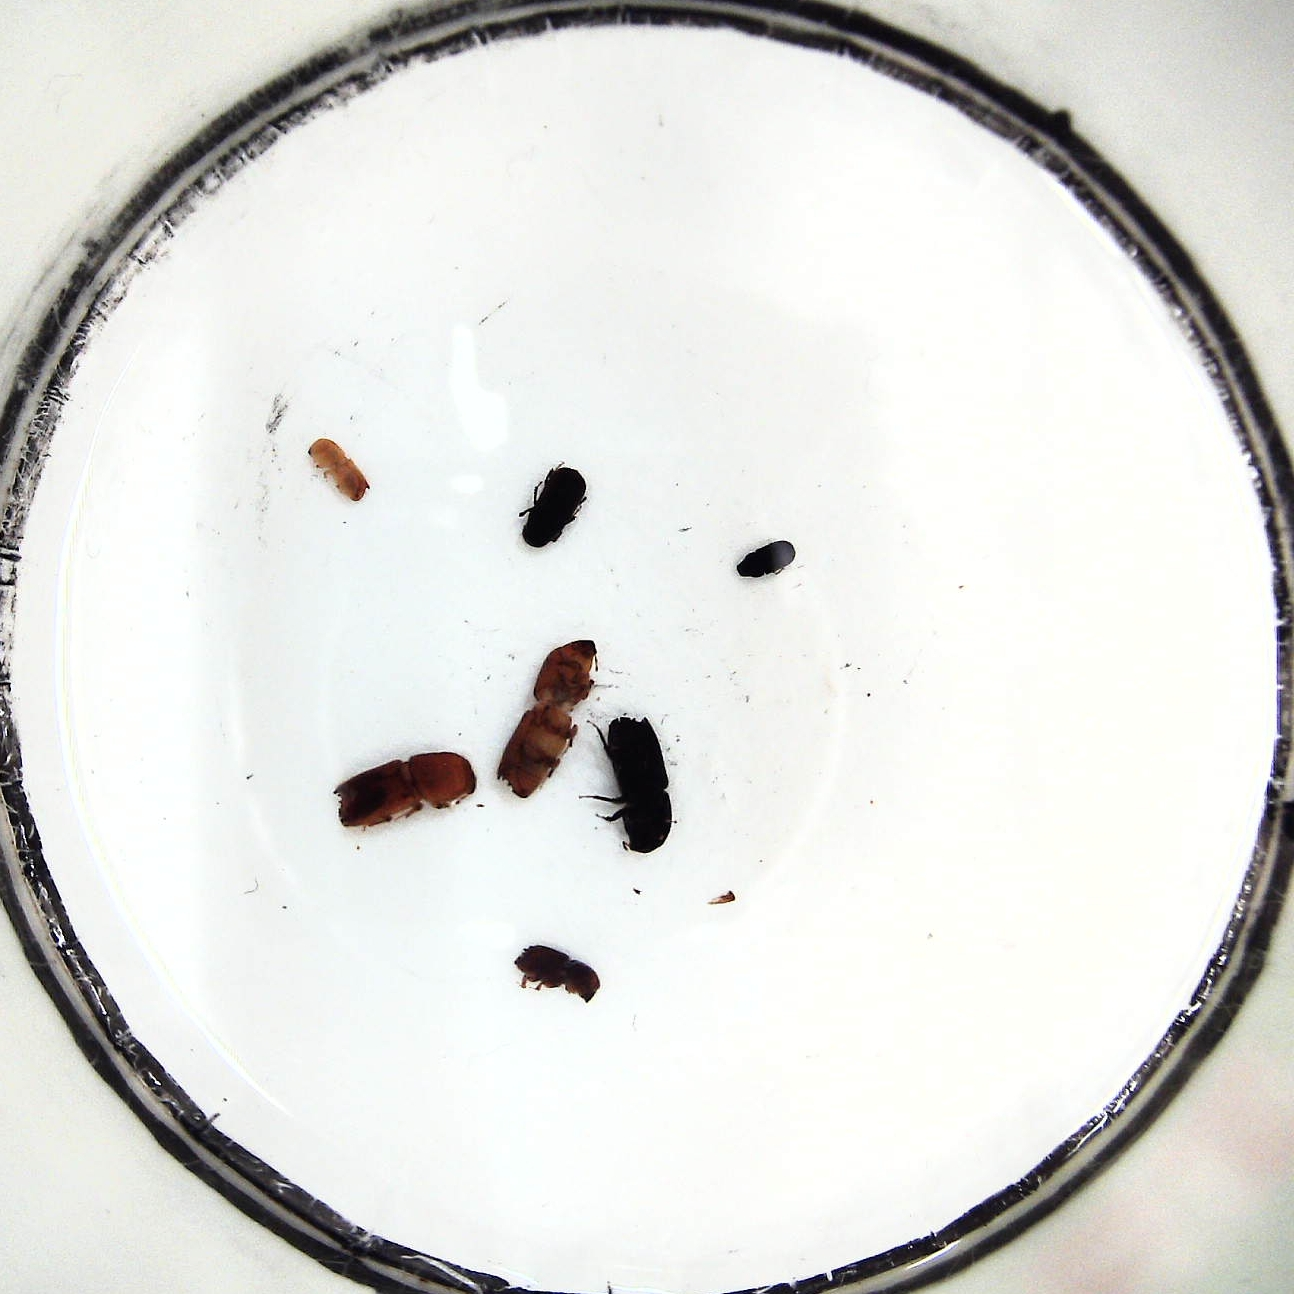Boerner: (493, 638, 598, 799), (333, 750, 478, 834), (601, 713, 675, 856)
Linnaeus: (513, 943, 602, 1005)
acuminatus: (306, 437, 370, 504)
armandi: (518, 468, 587, 547)
coleoptera: (734, 539, 797, 582)
